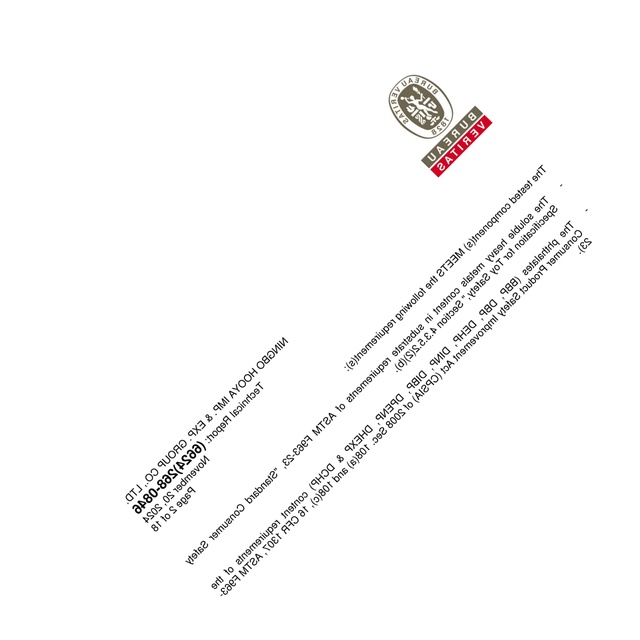bureau_veritas: (387, 72, 495, 177)
